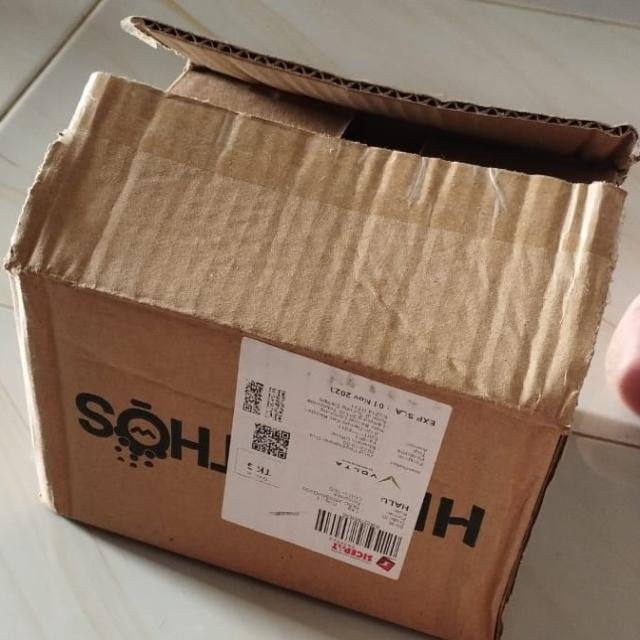Organik: (6, 13, 639, 640)
